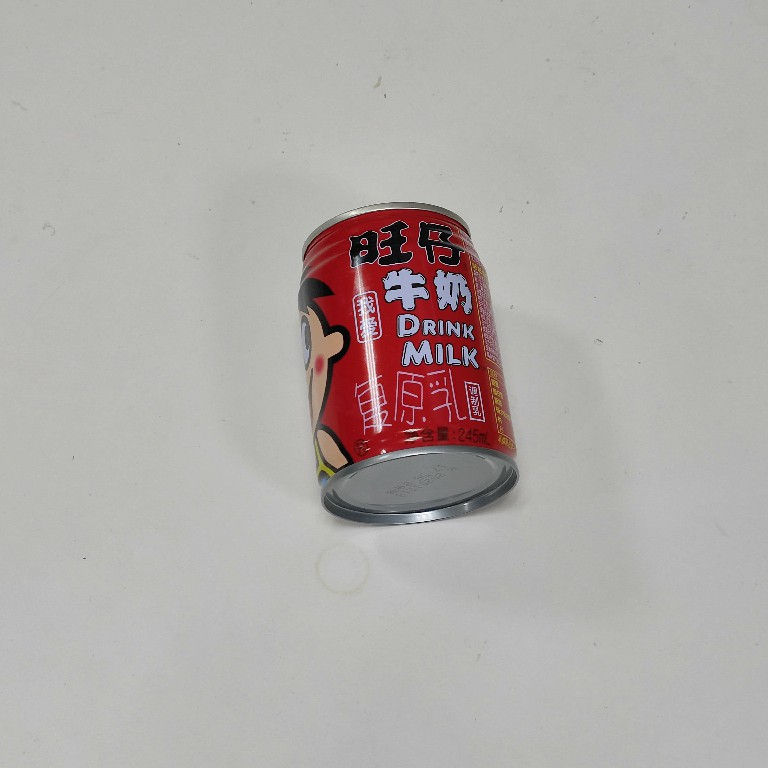can: (292, 196, 525, 528)
